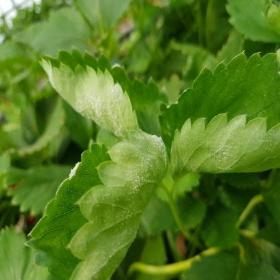Powdery Mildew Leaf: (24, 129, 170, 279), (158, 50, 279, 175), (37, 46, 169, 140)
